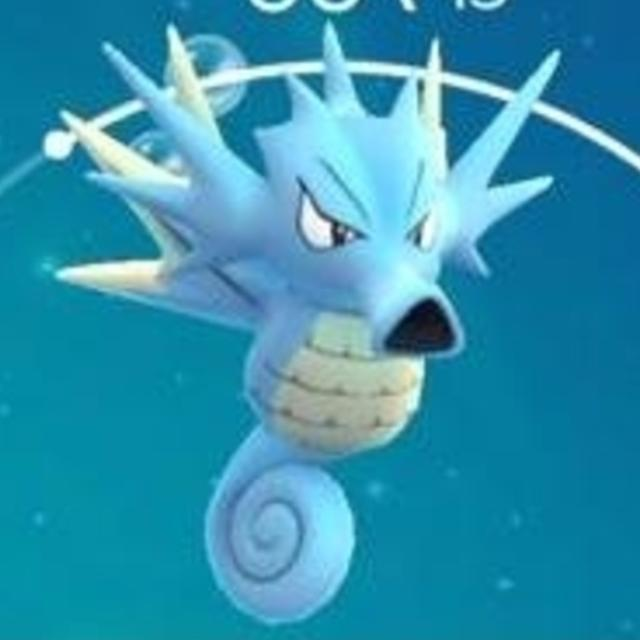Seadra: (54, 34, 581, 631)
